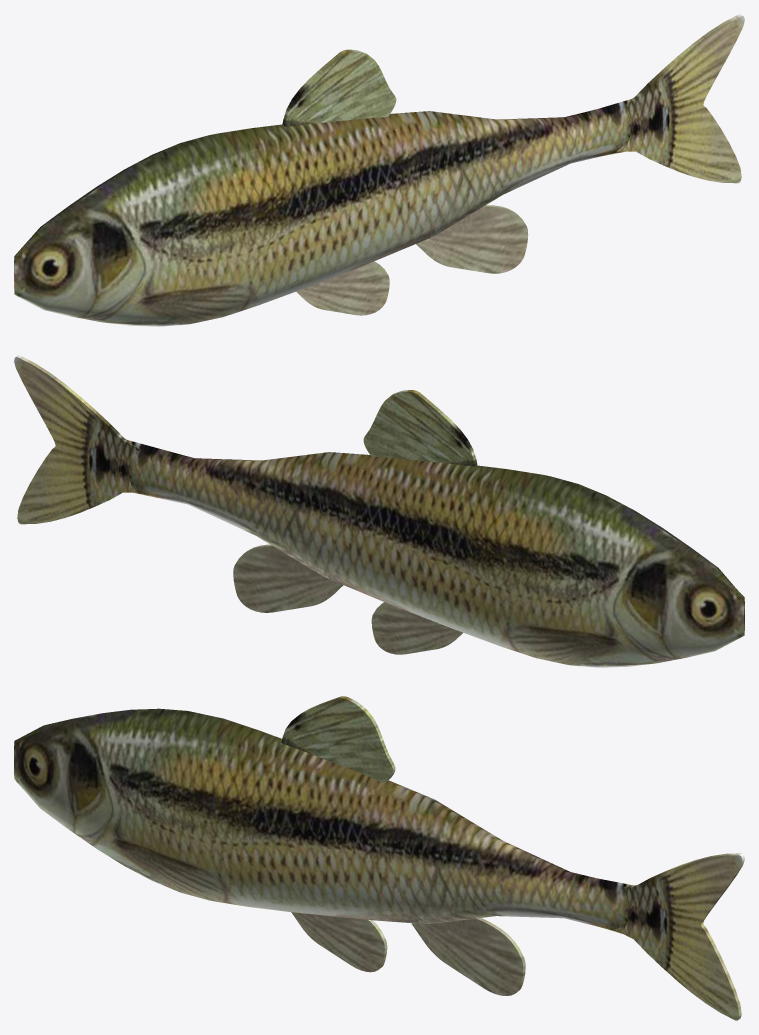
The model's file is minnows.fbx.
The picture shows the model from 3 angles, top to bottom: view 1: azimuth 30°, elevation 25°; view 2: azimuth 150°, elevation 25°; view 3: azimuth 330°, elevation 25°; orthographic projection.
Parts seen in each view (by area): view 1: Line001, Line002, Line011, Line012, Line013; view 2: Line001, Line002, Line011, Line012, Line013; view 3: Line001, Line002, Line011, Line012, Line013.
Boxes of the visible parts, left/top/right/bottom form: Line001: left=14, top=99, right=632, bottom=326; Line002: left=617, top=14, right=744, bottom=183; Line011: left=282, top=49, right=396, bottom=126; Line012: left=416, top=205, right=528, bottom=273; Line013: left=296, top=261, right=389, bottom=315; Line001: left=126, top=440, right=744, bottom=667; Line002: left=14, top=355, right=140, bottom=524; Line011: left=363, top=390, right=477, bottom=466; Line012: left=233, top=544, right=343, bottom=612; Line013: left=371, top=602, right=462, bottom=654; Line001: left=14, top=708, right=632, bottom=933; Line002: left=614, top=853, right=744, bottom=1020; Line011: left=281, top=696, right=395, bottom=783; Line012: left=412, top=918, right=525, bottom=995; Line013: left=291, top=912, right=387, bottom=972.
Bounding box in the file's own units: 1045 × 366 × 96.92.
Materials: 3 (3 with a texture image).
